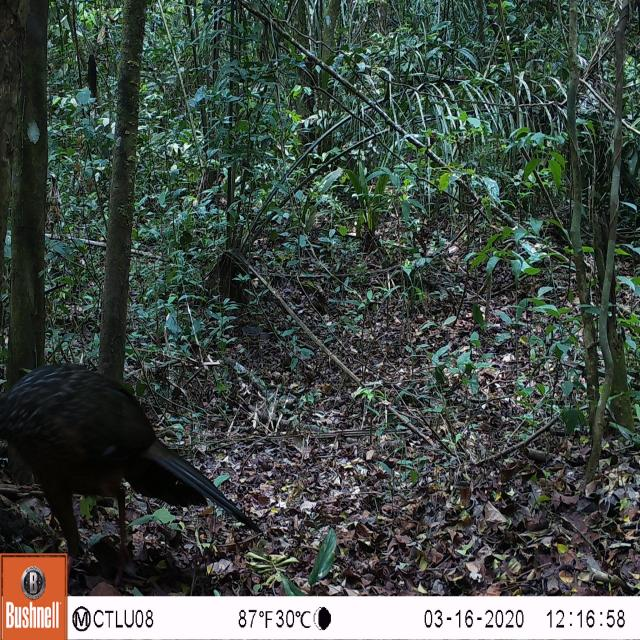Spixs Guan: (2, 348, 263, 556)
